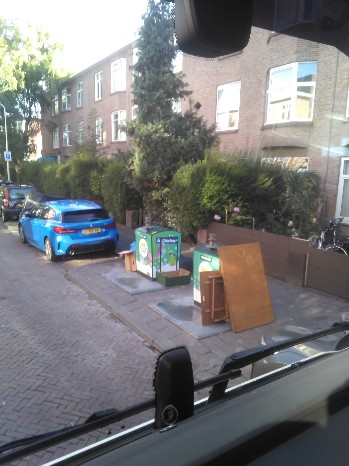Container: (140, 223, 173, 276), (194, 242, 218, 270)
Papier: (165, 265, 187, 289)
Rest: (219, 243, 274, 328), (204, 274, 228, 324), (115, 244, 138, 270)
Voertuig: (18, 196, 94, 257), (6, 177, 33, 203)
